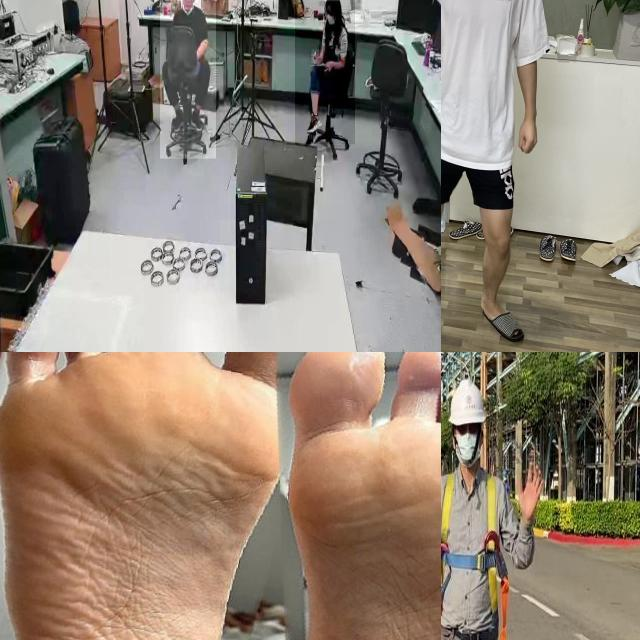Barefoots: (0, 352, 316, 640), (280, 352, 441, 640)
Harness: (441, 474, 510, 640), (458, 626, 498, 640)
Sandals: (480, 276, 524, 342)
face_mask: (325, 1, 341, 25)
face_nomask: (181, 0, 194, 10)
hand_noglove: (312, 50, 324, 64), (322, 58, 334, 72)
head_nohelmet: (325, 0, 340, 2)
person: (159, 0, 216, 159), (294, 0, 355, 145)
shoes: (305, 107, 323, 137), (189, 106, 205, 134), (170, 107, 186, 134)
